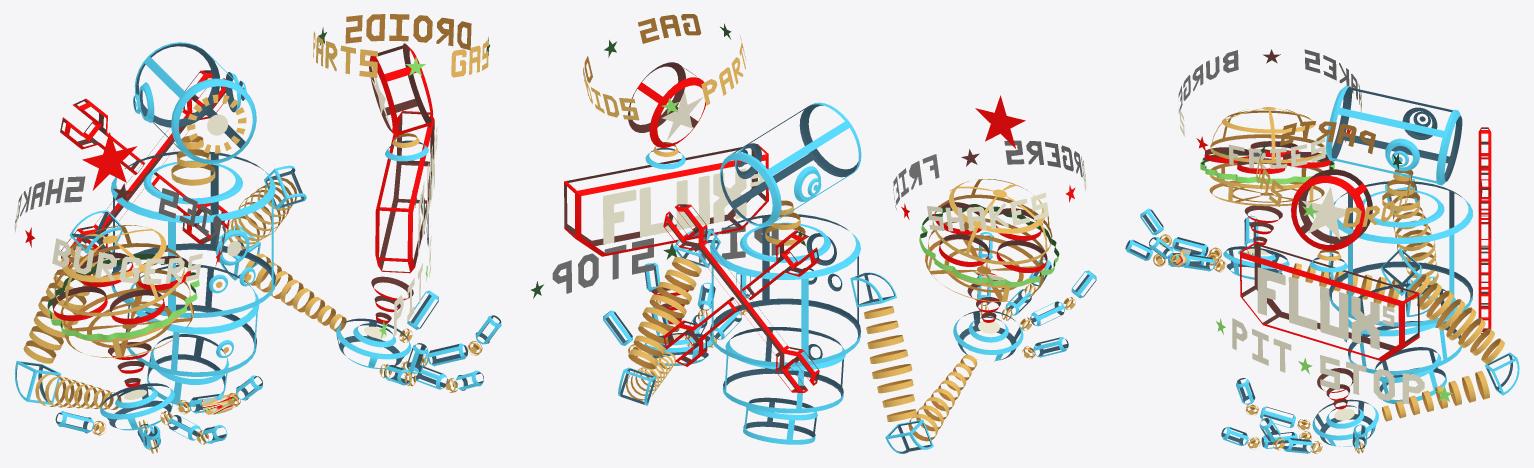
The model's file is pitstop2.glb.
The picture shows the model from 3 angles, left to right: view 1: azimuth 30°, elevation 25°; view 2: azimuth 150°, elevation 25°; view 3: azimuth 270°, elevation 25°; orthographic projection. The views are drawn at different scales.
Visible parts, largest first — view 1: origin2, origin1, Object_3_cell.074, Object_3_cell.267, Object_3_cell.282, Object_3_cell.300, Object_3_cell.177, Object_3_cell.098, Object_3_cell.309, Object_3_cell.527, Object_2_cell.270, Object_3_cell.542 (+3 smaller); view 2: origin2, origin1; view 3: origin2, origin1, Object_3_cell.144, Object_3_cell.179, Object_3_cell.311, Object_3_cell.318, Object_3_cell.177, Object_3_cell.074, Object_2_cell.376, Object_3_cell.060, Object_3_cell.299, Object_3_cell.142 (+1 smaller).
Part boxes in pixels (left/top/right/bottom): origin2: left=14, top=31, right=501, bottom=453; origin1: left=39, top=27, right=501, bottom=448; Object_3_cell.074: left=174, top=76, right=256, bottom=163; Object_3_cell.267: left=60, top=98, right=144, bottom=174; Object_3_cell.282: left=146, top=304, right=258, bottom=334; Object_3_cell.300: left=187, top=190, right=273, bottom=223; Object_3_cell.177: left=377, top=45, right=432, bottom=112; Object_3_cell.098: left=61, top=320, right=162, bottom=340; Object_3_cell.309: left=385, top=178, right=418, bottom=265; Object_3_cell.527: left=82, top=132, right=137, bottom=173; Object_2_cell.270: left=373, top=64, right=420, bottom=130; Object_3_cell.542: left=58, top=270, right=158, bottom=316; origin2: left=564, top=52, right=1096, bottom=453; origin1: left=531, top=14, right=1096, bottom=453; origin2: left=1126, top=85, right=1519, bottom=453; origin1: left=1126, top=50, right=1512, bottom=453; Object_3_cell.144: left=1351, top=303, right=1379, bottom=349; Object_3_cell.179: left=1302, top=186, right=1352, bottom=224; Object_3_cell.311: left=1257, top=267, right=1277, bottom=315; Object_3_cell.318: left=1288, top=276, right=1317, bottom=328; Object_3_cell.177: left=1291, top=175, right=1363, bottom=218; Object_3_cell.074: left=1326, top=86, right=1368, bottom=166; Object_2_cell.376: left=1357, top=136, right=1456, bottom=170; Object_3_cell.060: left=1421, top=110, right=1457, bottom=183; Object_3_cell.299: left=1320, top=276, right=1388, bottom=300; Object_3_cell.142: left=1363, top=292, right=1418, bottom=361.
Bounding box in the file's own units: 1.98 × 1.42 × 1.59.
Materials: 2 (2 with a texture image).
